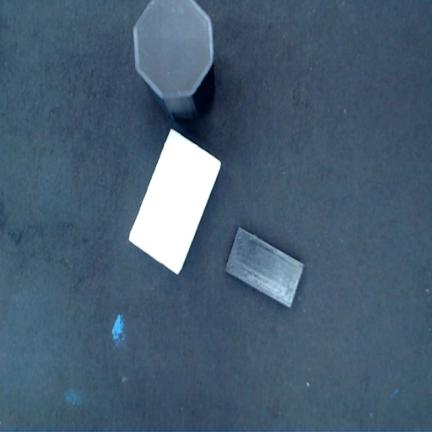Paralelepipedo: (128, 129, 222, 278), (225, 227, 304, 310)
Prisma_hexagonal: (132, 0, 214, 119)
